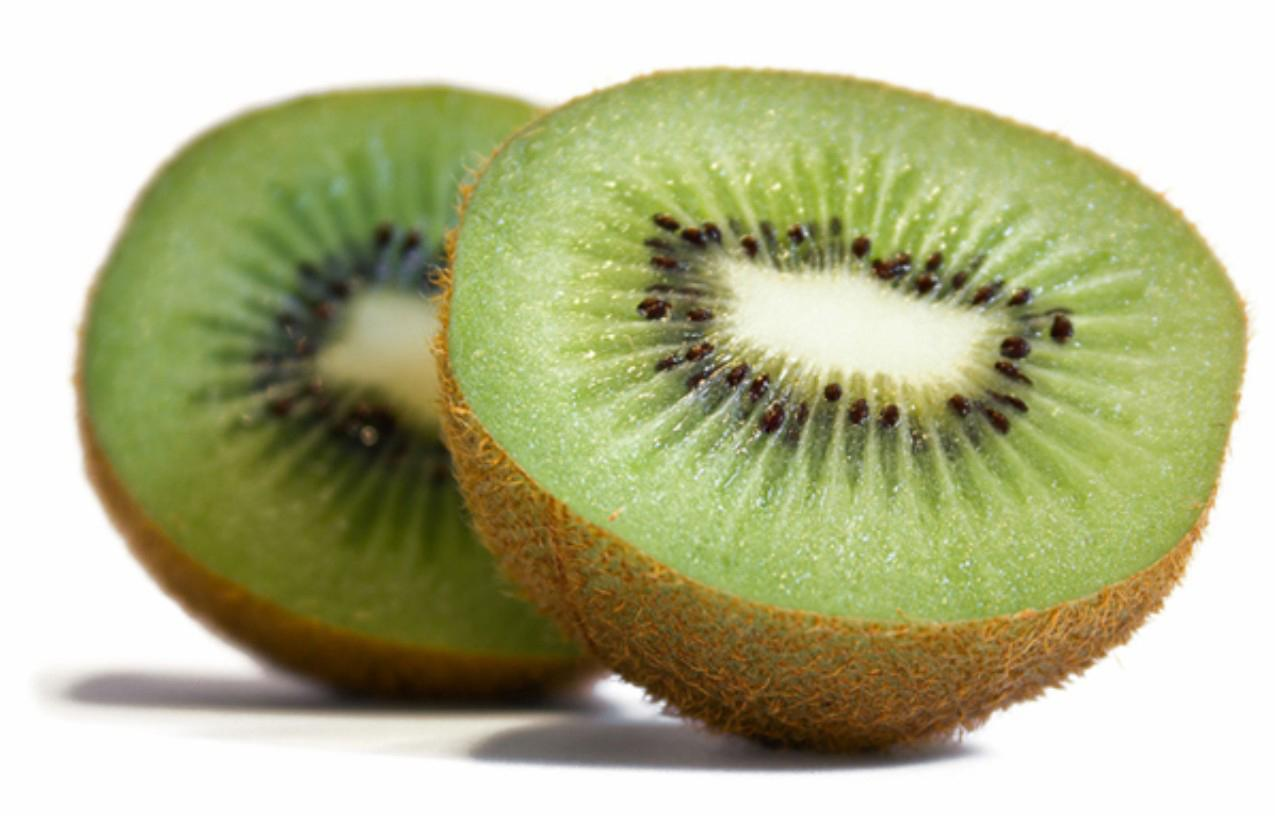kiwi: (436, 64, 1249, 766)
